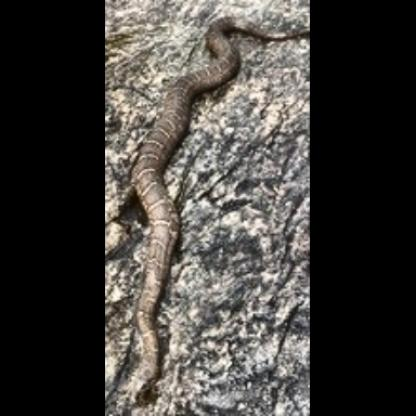Snake: (115, 3, 291, 416)
